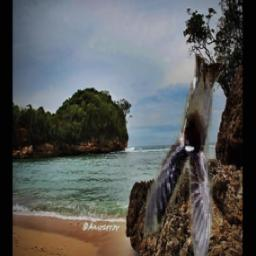Swallow: (144, 54, 225, 256)
